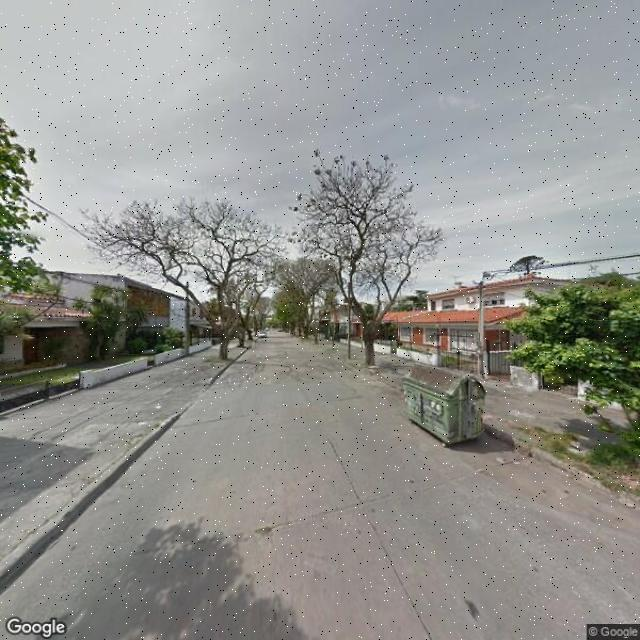garbage container: (397, 356, 496, 461)
